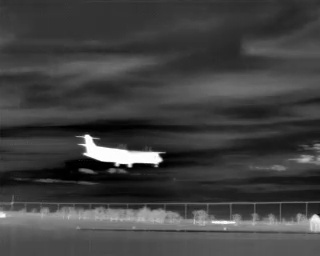AIRPLANE: (71, 138, 170, 177)
